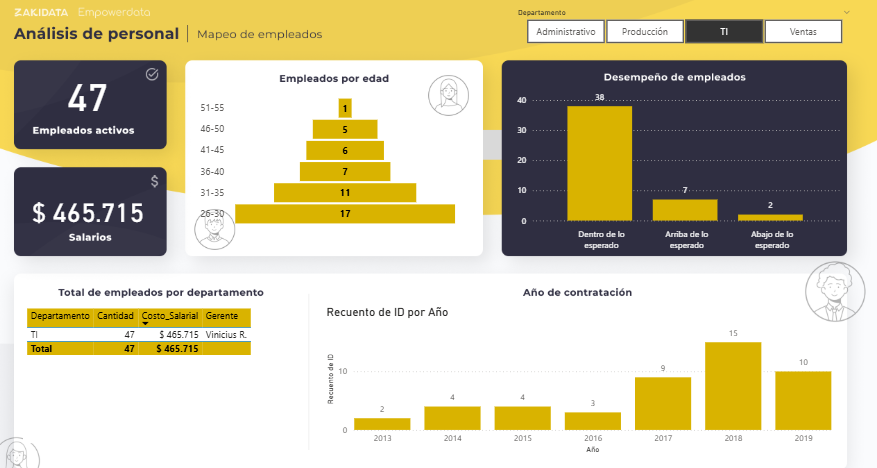

The page's visual inventory and layout, read from the dashboard file:
{"tool":"powerbi","page":{"name":"Página 1","canvas":[1280,720],"ordinal":0},"visuals":[{"type":"card","fields":{"Values":["integrantes.ID"]},"box":[16.8,58.8,248.6,169.7],"z":0},{"type":"card","fields":{"Values":["integrantes.Costo_Salarial"]},"box":[18.7,229,247.7,168.5],"z":1},{"type":"tableEx","fields":{"Values":["departamentos.Departamento","integrantes.ID","integrantes.Costo_Salarial","departamentos.Gerente"]},"box":[49,449.3,410.4,198.7],"z":2},{"type":"clusteredColumnChart","fields":{"Category":["integrantes.Fecha de contratación.Variación.Jerarquía de fechas.Año"],"Y":["integrantes.ID"]},"box":[481,449.3,737.3,218.9],"z":3},{"type":"clusteredColumnChart","fields":{"Category":["integrantes.Registro de desempeño"],"Y":["integrantes.ID"]},"box":[748.8,126.7,482.4,252],"z":4},{"type":"funnel","fields":{"Category":["integrantes.Edad_Rango"],"Y":["integrantes.ID"]},"box":[299.5,144,381.6,195.8],"z":5},{"type":"slicer","fields":{"Values":["departamentos.Departamento"]},"box":[748.8,17.3,504,61.9],"z":6}]}

Visuals, with their boxes on the page's 1280x720 design canvas (x1, y1, x2, y2). These are canvas units, not pixel positions in the 877x468 screenshot, which may show the page scaled, cropped or inside an application window:
card - integrantes.ID: (17,59,265,228)
card - integrantes.Costo_Salarial: (19,229,266,398)
tableEx - departamentos.Departamento x integrantes.ID: (49,449,459,648)
clusteredColumnChart - integrantes.Fecha de contratación.Variación.Jerarquía de fechas.Año x integrantes.ID: (481,449,1218,668)
clusteredColumnChart - integrantes.Registro de desempeño x integrantes.ID: (749,127,1231,379)
funnel - integrantes.Edad_Rango x integrantes.ID: (300,144,681,340)
slicer - departamentos.Departamento: (749,17,1253,79)
